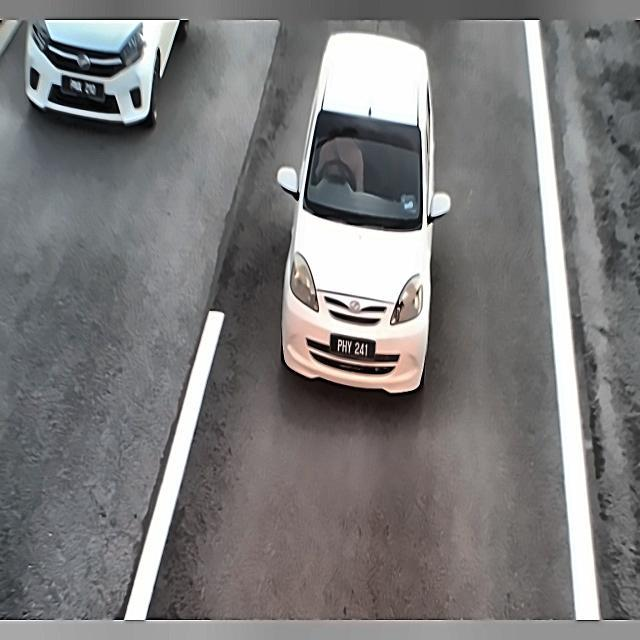car: (323, 327, 381, 370), (60, 69, 106, 108)
